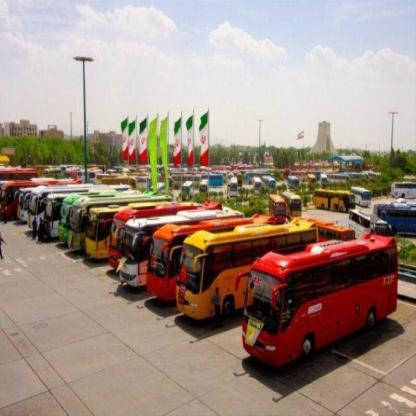Bus: (236, 230, 406, 370), (173, 219, 318, 320), (144, 226, 201, 296), (117, 225, 152, 292), (84, 207, 118, 265), (374, 197, 416, 235), (104, 212, 134, 265), (64, 203, 93, 252), (47, 194, 71, 246), (24, 187, 51, 231), (311, 191, 357, 212), (0, 183, 21, 219), (13, 188, 32, 223), (269, 198, 287, 224), (290, 194, 300, 218)
